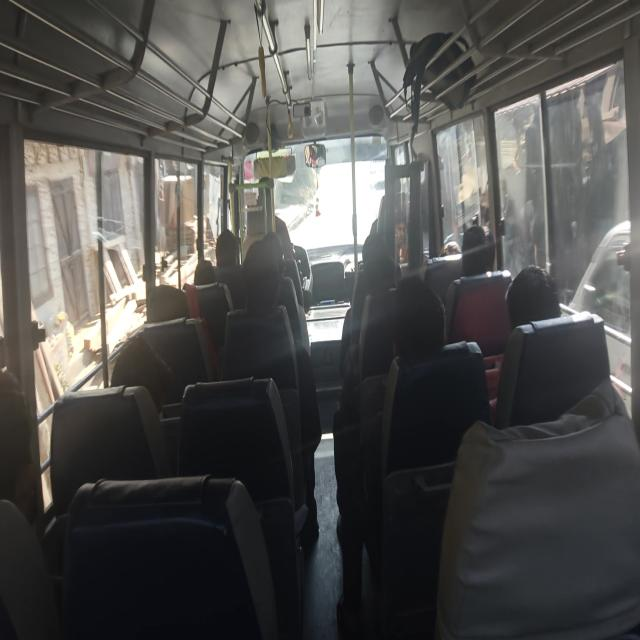person: (0, 398, 44, 574), (401, 274, 455, 350), (503, 270, 561, 340), (117, 339, 167, 410), (240, 250, 288, 312), (148, 274, 192, 327), (375, 257, 410, 312), (352, 232, 393, 277), (463, 220, 493, 273), (190, 256, 217, 297), (213, 220, 238, 262), (260, 228, 292, 260), (434, 237, 461, 261)
